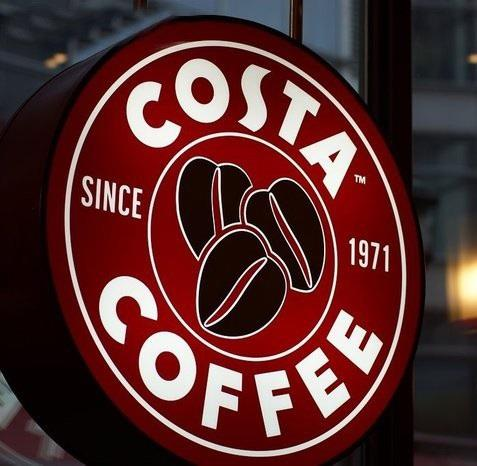costa_coffee: (82, 32, 402, 455)
